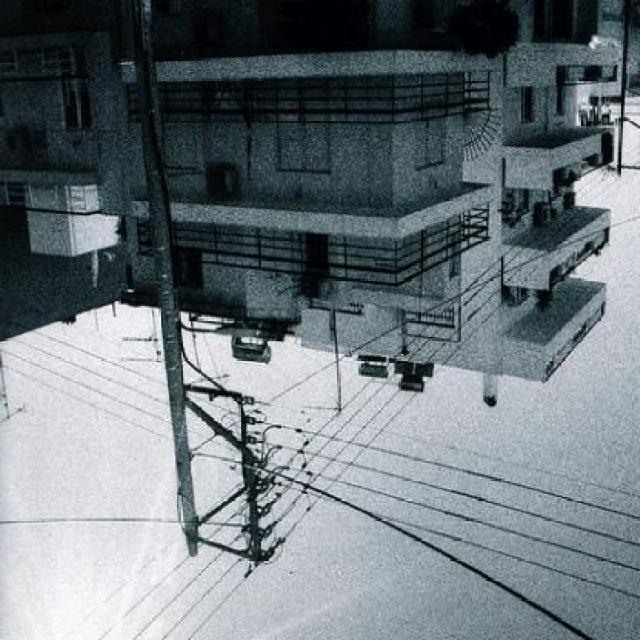pole: (118, 0, 271, 571)
